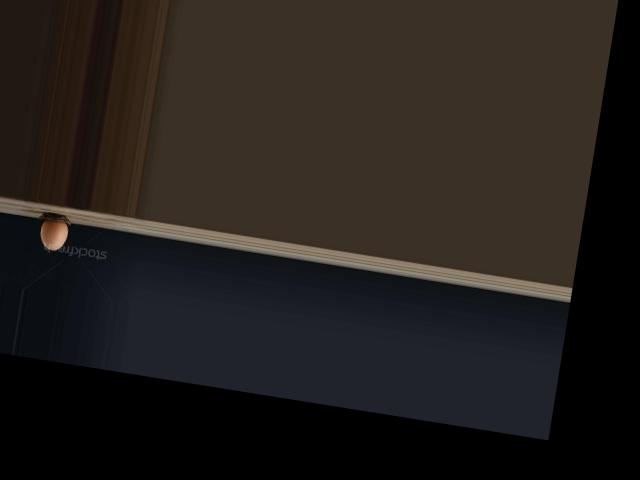egg: (37, 218, 68, 251)
